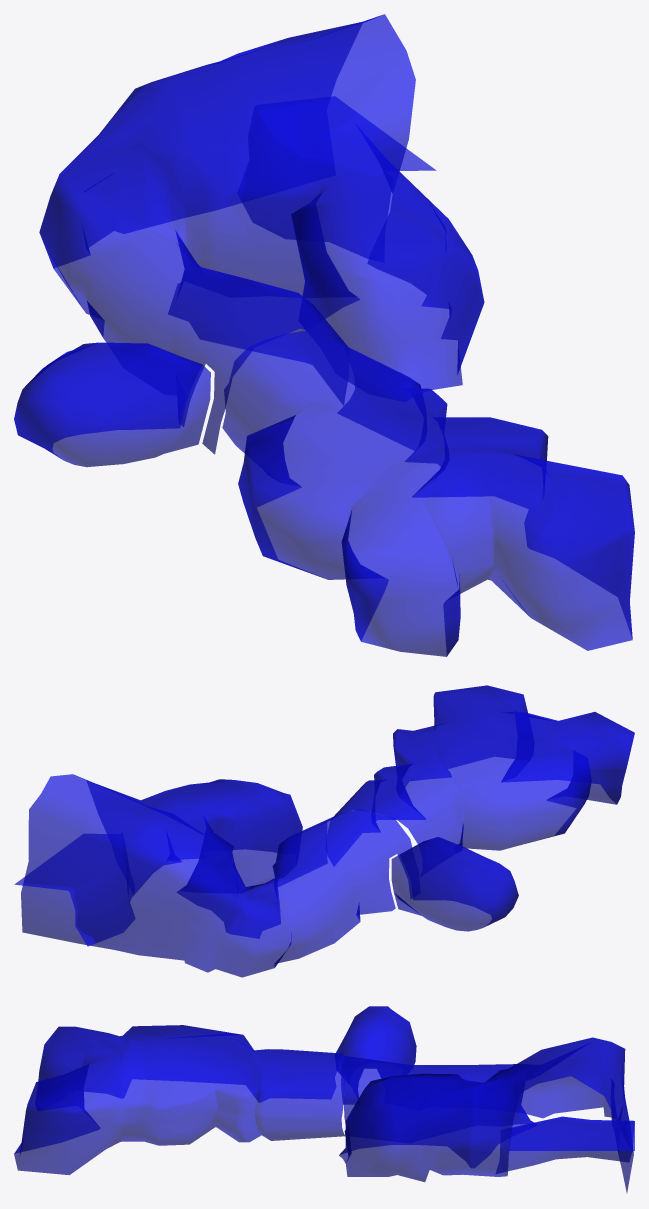
File: cave.fbx
3 renders of one model, top to bottom at view 1: azimuth 30°, elevation 25°; view 2: azimuth 150°, elevation 25°; view 3: azimuth 270°, elevation 25°, orthographic. The views are drawn at different scales.
Visible parts, largest first — view 1: polySurface10; view 2: polySurface10; view 3: polySurface10.
Part boxes in pixels (x1,y1,x2,y2): polySurface10: (14, 14, 634, 656); polySurface10: (14, 685, 634, 977); polySurface10: (14, 1006, 634, 1193).
Bounding box in the file's own units: 31.43 × 14.45 × 52.61.
